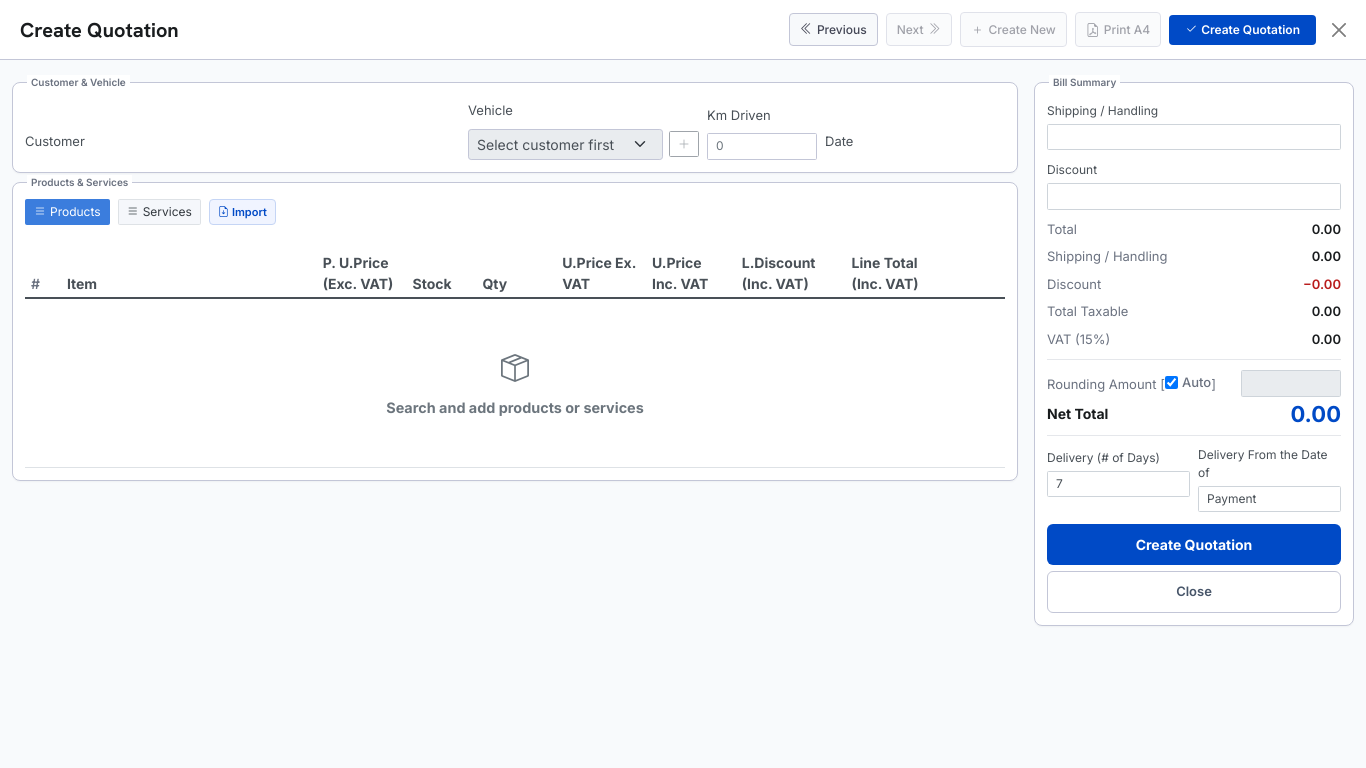
Scenario: Quotation form type 3: Import dropdown (integration) › From Purchases warns and imports at price 0 when selling prices cannot be loaded
Later steps or results of the test are not shown.
Click the button with test id "import-dropdown-btn".
click(242, 212)  # box left=209, top=198, right=276, bottom=225
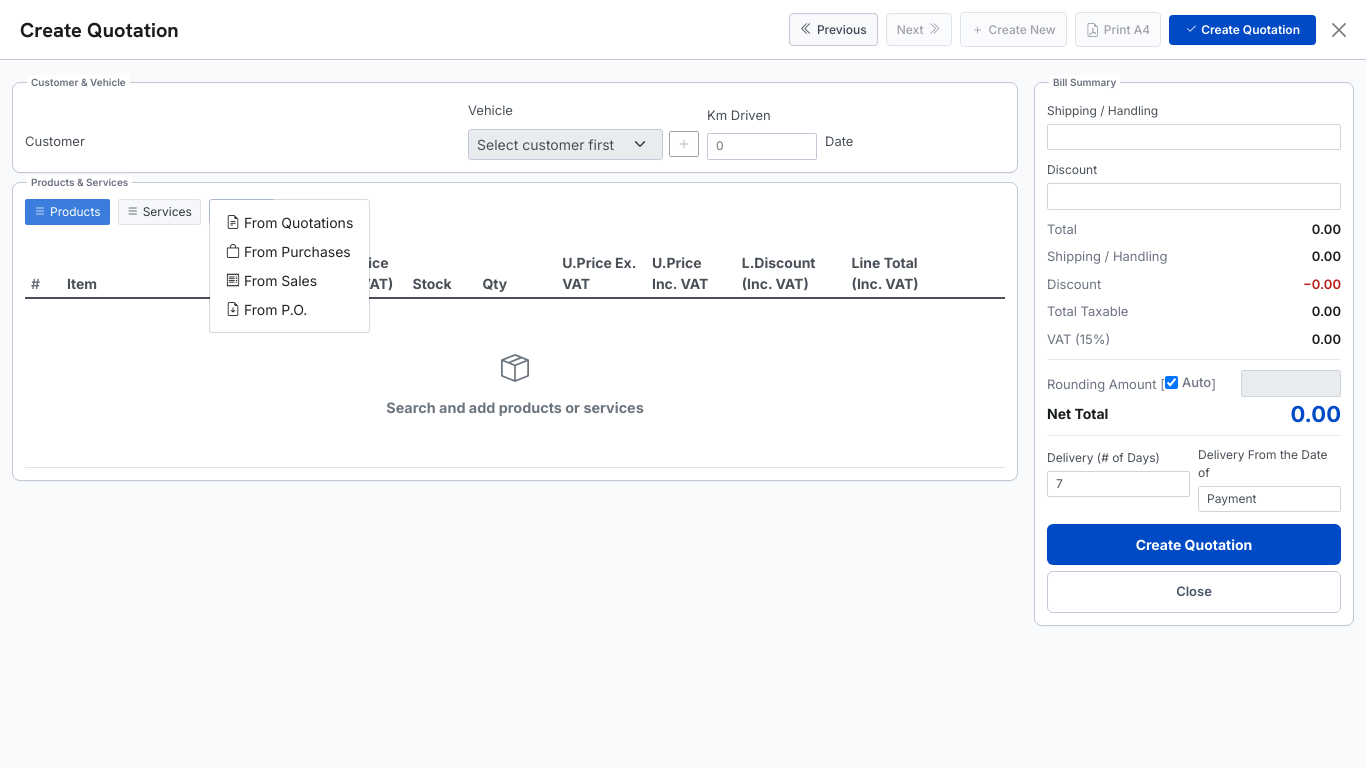
Click the button with test id "import-from-purchase-btn".
click(288, 251)  # box left=226, top=242, right=351, bottom=260
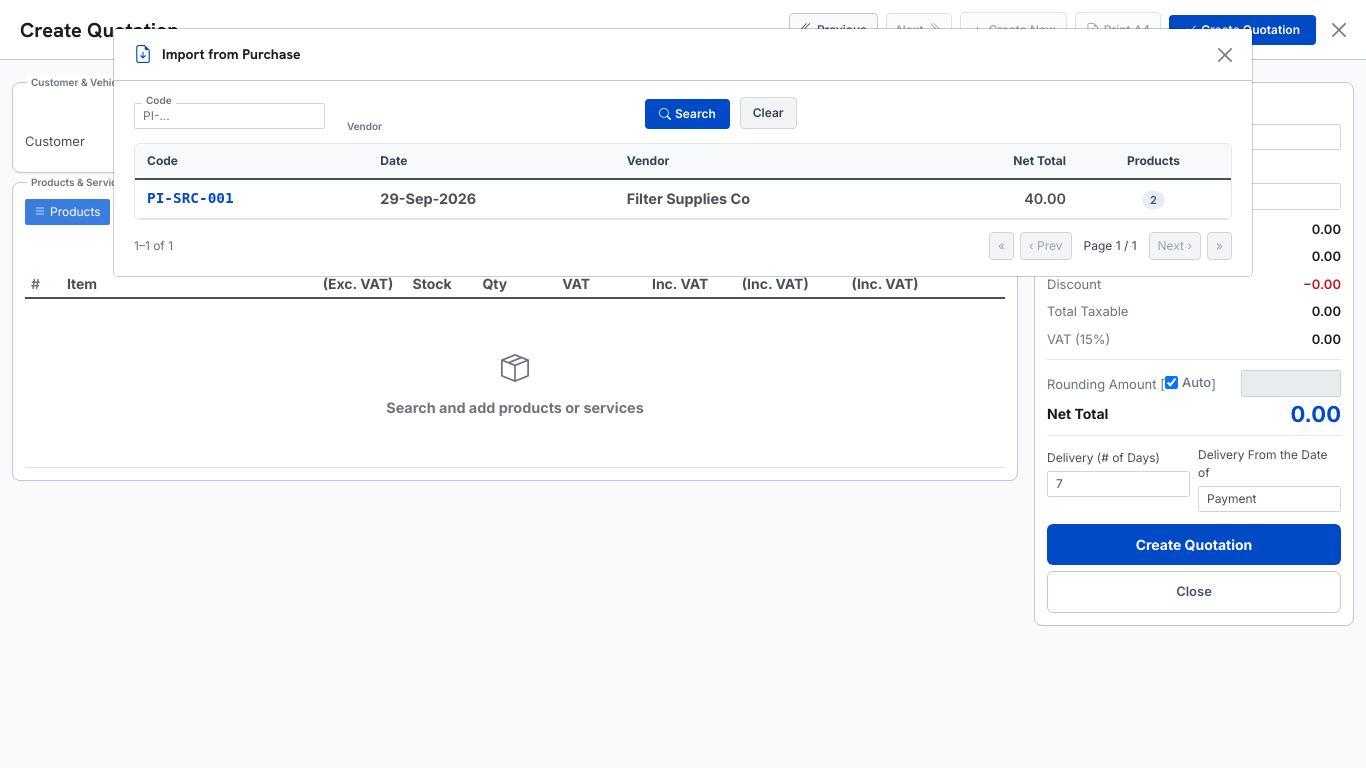
Click the text "PI-SRC-001".
click(253, 199)  # box left=135, top=179, right=370, bottom=218
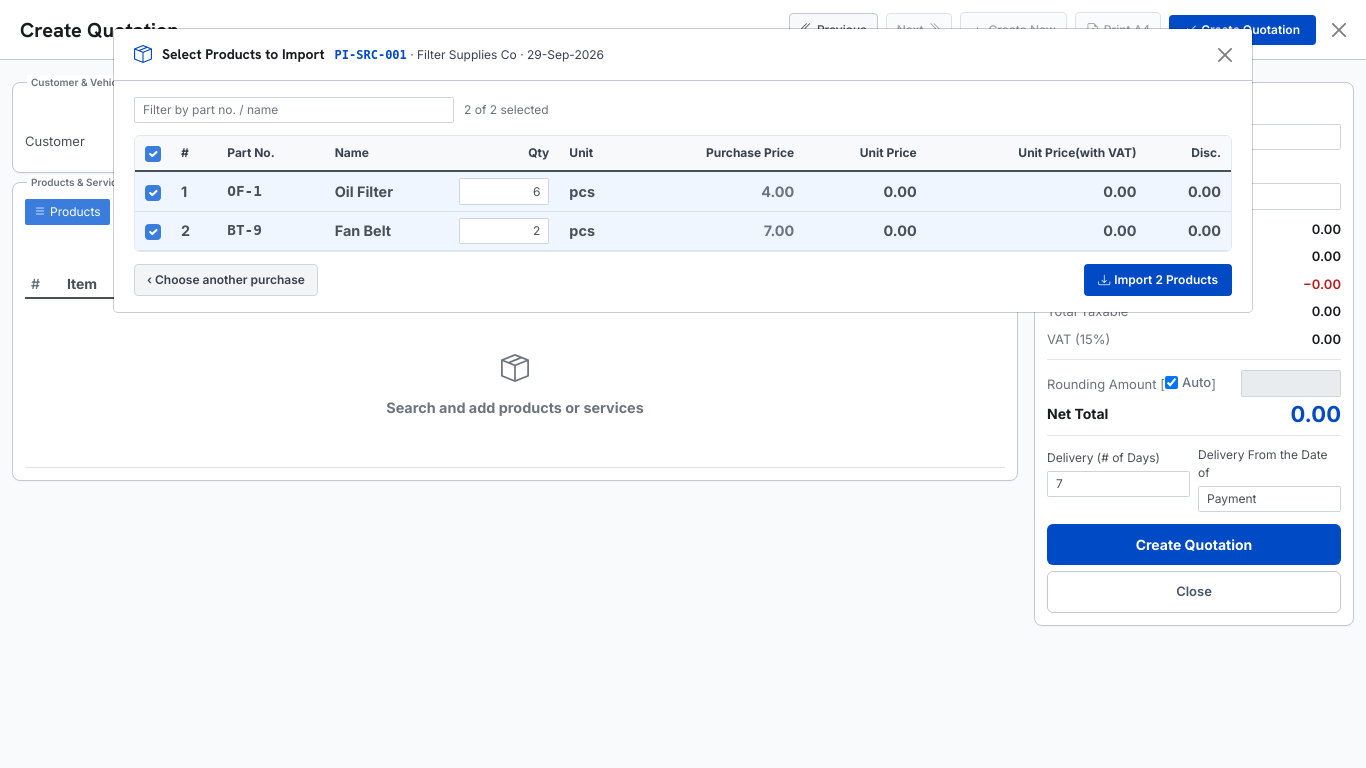
Check: the heading "Select Products to Import" is shown, box left=162, top=46, right=325, bottom=63
